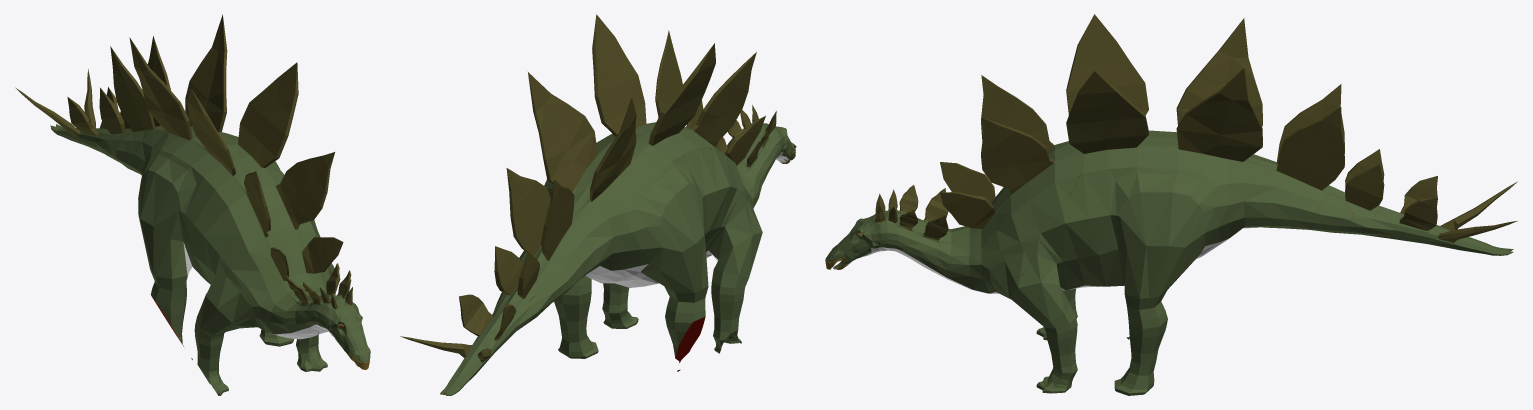
The model's file is stego_model_exploded.fbx.
The picture shows the model from 3 angles, left to right: view 1: azimuth 30°, elevation 25°; view 2: azimuth 150°, elevation 25°; view 3: azimuth 270°, elevation 25°; orthographic projection. The views are drawn at different scales.
Parts seen in each view (by area): view 1: stagosaurus_src.002_cell, stagosaurus_src.002_cell.010, stagosaurus_src.002_cell.006, stagosaurus_src.002_cell.011, stagosaurus_src.002_cell.012, stagosaurus_src.002_cell.013, stagosaurus_src.002_cell.005, stagosaurus_src.002_cell.007, stagosaurus_src.002_cell.002, stagosaurus_src.002_cell.009, stagosaurus_src.002_cell.003, stagosaurus_src.002_cell.014 (+2 smaller); view 2: stagosaurus_src.002_cell.006, stagosaurus_src.002_cell.010, stagosaurus_src.002_cell, stagosaurus_src.002_cell.013, stagosaurus_src.002_cell.005, stagosaurus_src.002_cell.011, stagosaurus_src.002_cell.003, stagosaurus_src.002_cell.009, stagosaurus_src.002_cell.001, stagosaurus_src.002_cell.014, stagosaurus_src.002_cell.012, stagosaurus_src.002_cell.007 (+1 smaller); view 3: stagosaurus_src.002_cell.006, stagosaurus_src.002_cell, stagosaurus_src.002_cell.010, stagosaurus_src.002_cell.013, stagosaurus_src.002_cell.005, stagosaurus_src.002_cell.007, stagosaurus_src.002_cell.011, stagosaurus_src.002_cell.003, stagosaurus_src.002_cell.009, stagosaurus_src.002_cell.002.
Boxes of the visible parts, x1=… form: stagosaurus_src.002_cell: x1=187, y1=62, x2=338, y2=339; stagosaurus_src.002_cell.010: x1=138, y1=106, x2=283, y2=395; stagosaurus_src.002_cell.006: x1=117, y1=21, x2=275, y2=210; stagosaurus_src.002_cell.011: x1=15, y1=78, x2=95, y2=149; stagosaurus_src.002_cell.012: x1=311, y1=287, x2=358, y2=336; stagosaurus_src.002_cell.013: x1=259, y1=277, x2=340, y2=371; stagosaurus_src.002_cell.005: x1=99, y1=14, x2=223, y2=122; stagosaurus_src.002_cell.007: x1=319, y1=240, x2=361, y2=333; stagosaurus_src.002_cell.002: x1=334, y1=316, x2=369, y2=356; stagosaurus_src.002_cell.009: x1=99, y1=104, x2=131, y2=140; stagosaurus_src.002_cell.003: x1=68, y1=94, x2=121, y2=153; stagosaurus_src.002_cell.014: x1=300, y1=281, x2=322, y2=332; stagosaurus_src.002_cell.006: x1=519, y1=52, x2=683, y2=286; stagosaurus_src.002_cell.010: x1=576, y1=83, x2=762, y2=371; stagosaurus_src.002_cell: x1=592, y1=14, x2=765, y2=208; stagosaurus_src.002_cell.013: x1=554, y1=283, x2=638, y2=358; stagosaurus_src.002_cell.005: x1=494, y1=72, x2=560, y2=288; stagosaurus_src.002_cell.011: x1=409, y1=309, x2=508, y2=395; stagosaurus_src.002_cell.003: x1=468, y1=268, x2=519, y2=340; stagosaurus_src.002_cell.009: x1=496, y1=261, x2=553, y2=312; stagosaurus_src.002_cell.001: x1=518, y1=277, x2=574, y2=329; stagosaurus_src.002_cell.014: x1=746, y1=125, x2=775, y2=176; stagosaurus_src.002_cell.012: x1=759, y1=111, x2=787, y2=160; stagosaurus_src.002_cell.007: x1=699, y1=100, x2=765, y2=153; stagosaurus_src.002_cell.006: x1=1119, y1=18, x2=1334, y2=272; stagosaurus_src.002_cell: x1=928, y1=14, x2=1124, y2=293; stagosaurus_src.002_cell.010: x1=987, y1=53, x2=1183, y2=340; stagosaurus_src.002_cell.013: x1=991, y1=274, x2=1167, y2=395; stagosaurus_src.002_cell.005: x1=1239, y1=68, x2=1384, y2=224; stagosaurus_src.002_cell.007: x1=859, y1=192, x2=950, y2=276; stagosaurus_src.002_cell.011: x1=1414, y1=177, x2=1517, y2=255; stagosaurus_src.002_cell.003: x1=1372, y1=176, x2=1436, y2=241; stagosaurus_src.002_cell.009: x1=1315, y1=168, x2=1384, y2=236; stagosaurus_src.002_cell.002: x1=834, y1=226, x2=883, y2=265.
Bounding box in the file's own units: 848 × 1674 × 3296.
